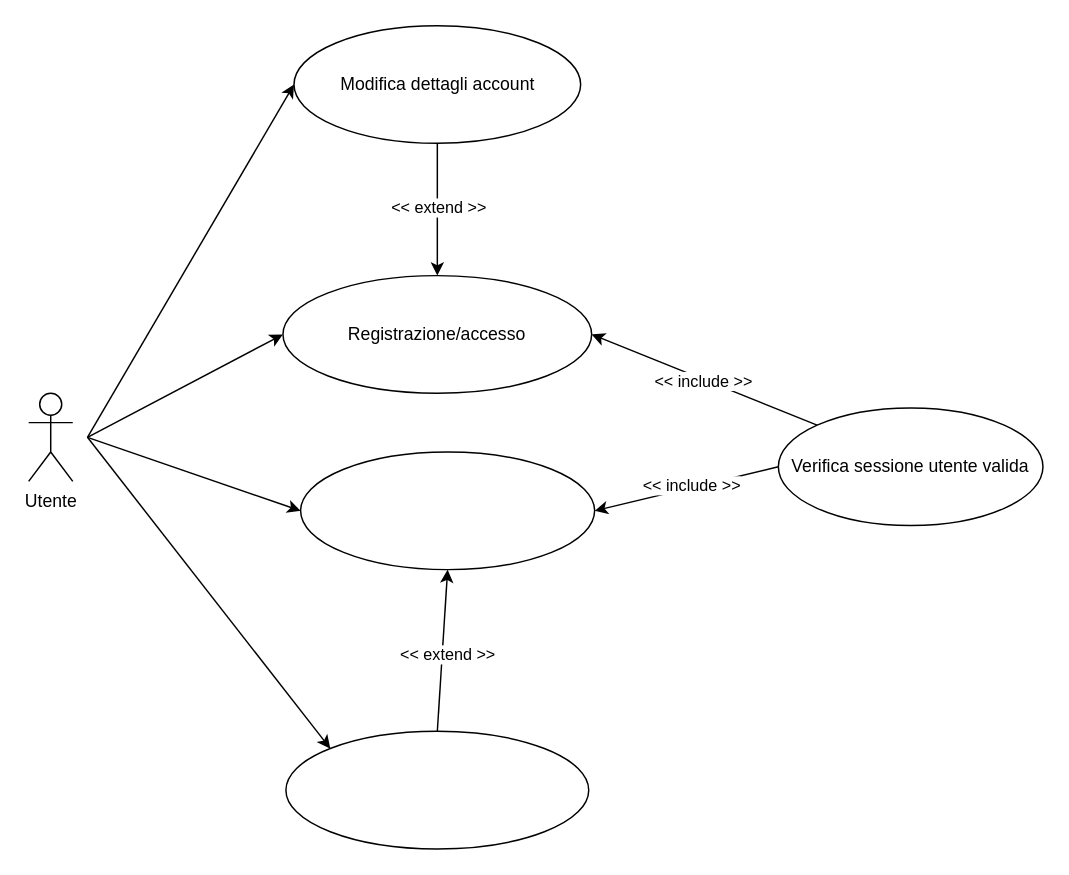
Image size: 1069x875. Some labels were removed from this diagram. The shapes that lost their labels are listed below. From the top down, each one's centre as x and y in pixels, then its label:
At (447,510): "Creazione/modifica note".
At (436,789): "Interrogazione tramite modello IA".
